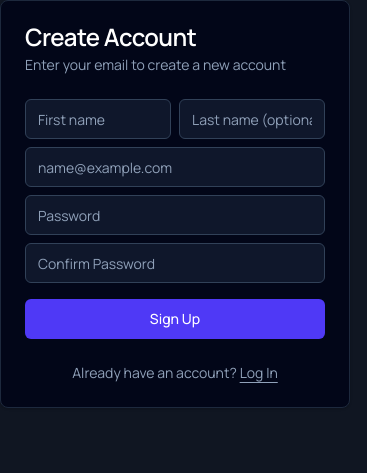
Scenario: RegisterForm › shows the server error, including the rate limit
Type "Ana" into the field with placeholder "First name".
click(98, 119); type("Ana")  # box top-left (25, 99), bottom-right (171, 139)
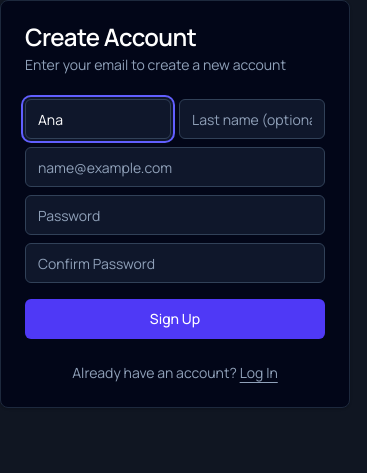
Type "ana@example.com" into the field with placeholder "name@example.com".
click(175, 167); type("ana@example.com")  # box top-left (25, 147), bottom-right (325, 187)
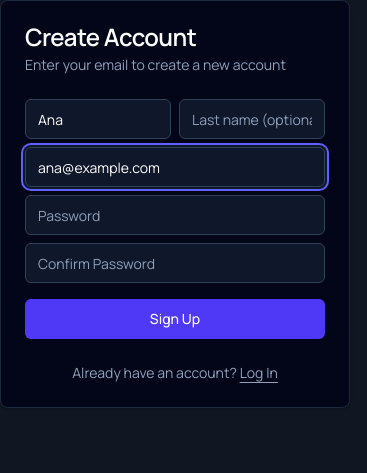
Type "long-password-123" into the password field with placeholder "Password".
click(175, 215); type("long-password-123")  # box top-left (25, 195), bottom-right (325, 235)
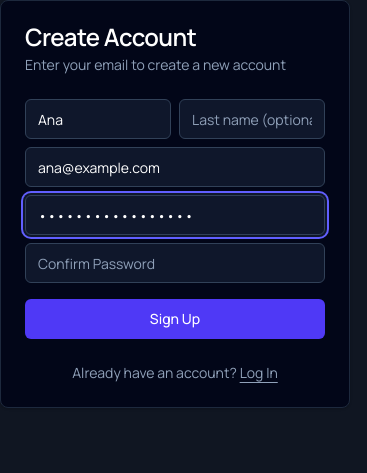
Type "long-password-123" into the password field with placeholder "Confirm Password".
click(175, 263); type("long-password-123")  # box top-left (25, 243), bottom-right (325, 283)
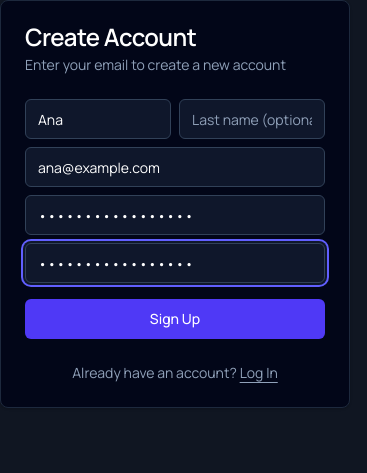
Click the button "Sign Up".
click(175, 319)  # box top-left (25, 299), bottom-right (325, 339)
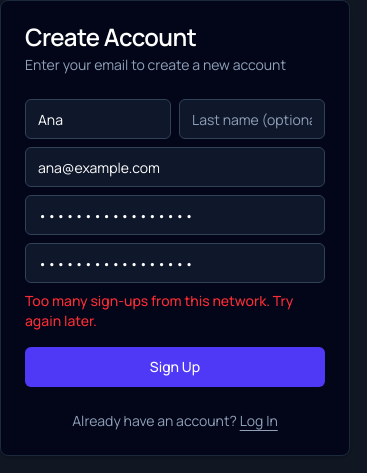
Check: the button "Sign Up" is enabled, box top-left (25, 347), bottom-right (325, 387)
Check: the text "Too many sign-ups from this network. Try again later." is shown, box top-left (25, 291), bottom-right (325, 331)
